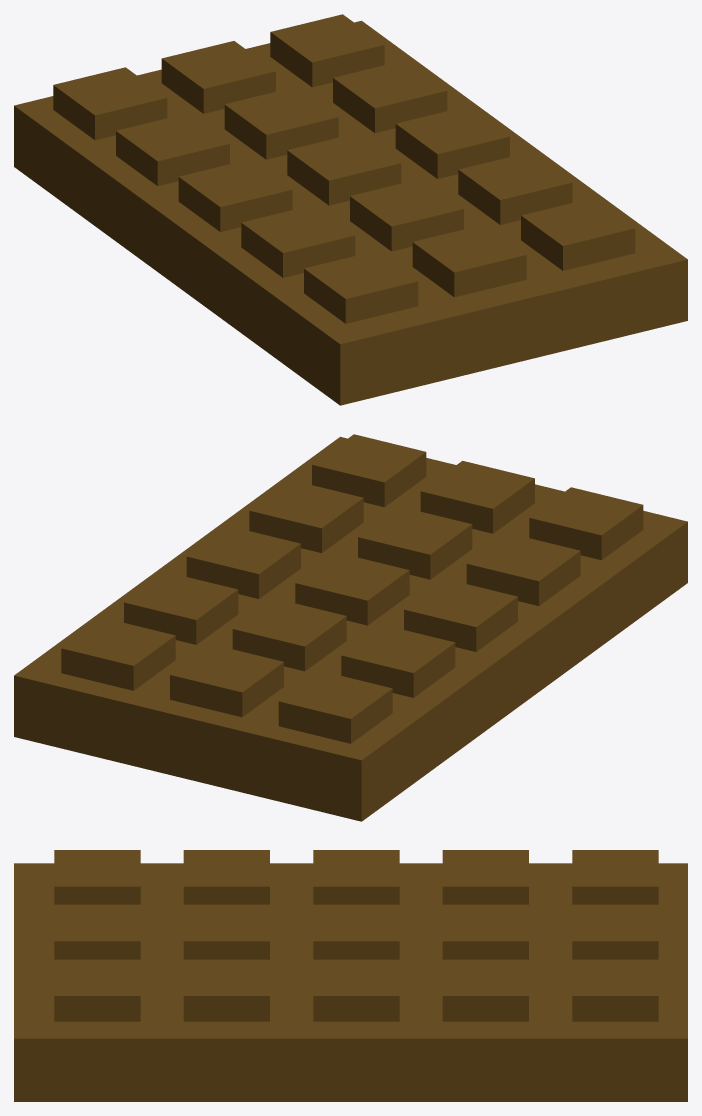
File: 4 chocolate.fbx
The picture shows the model from 3 angles, top to bottom: view 1: azimuth 30°, elevation 25°; view 2: azimuth 150°, elevation 25°; view 3: azimuth 270°, elevation 25°; orthographic projection. The views are drawn at different scales.
Visible parts, largest first — view 1: 4 chocolate; view 2: 4 chocolate; view 3: 4 chocolate.
Boxes of the visible parts, <box> form: 4 chocolate: <box>14,14,687,405</box>; 4 chocolate: <box>14,434,687,821</box>; 4 chocolate: <box>14,850,687,1101</box>.
Bounding box in the file's own units: 4.35 × 1.03 × 7.07.
